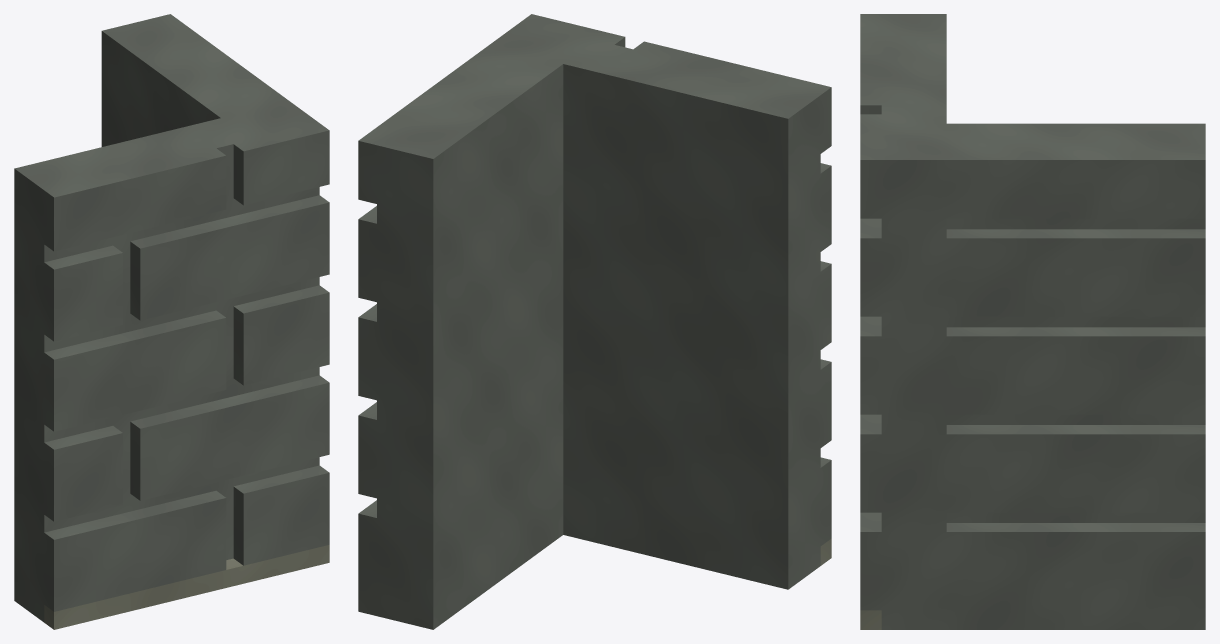
Rendered from CORNER_OUTER.glb.
3 renders of one model, left to right at view 1: azimuth 30°, elevation 25°; view 2: azimuth 150°, elevation 25°; view 3: azimuth 270°, elevation 25°, orthographic. The views are drawn at different scales.
Parts seen in each view (by area): view 1: CORNER_OUTER; view 2: CORNER_OUTER; view 3: CORNER_OUTER.
Boxes of the visible parts, x1,y1,x2,y2 form: CORNER_OUTER: (14, 14, 329, 629); CORNER_OUTER: (358, 14, 831, 629); CORNER_OUTER: (860, 14, 1205, 629).
Size of the model in its own units: 2 by 3 by 2.
Materials: 2 (2 with a texture image).
